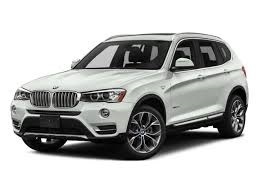bmw: (5, 20, 259, 163)
